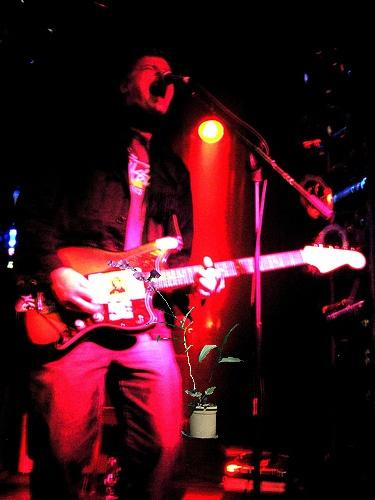tampered: (108, 261, 244, 439)
